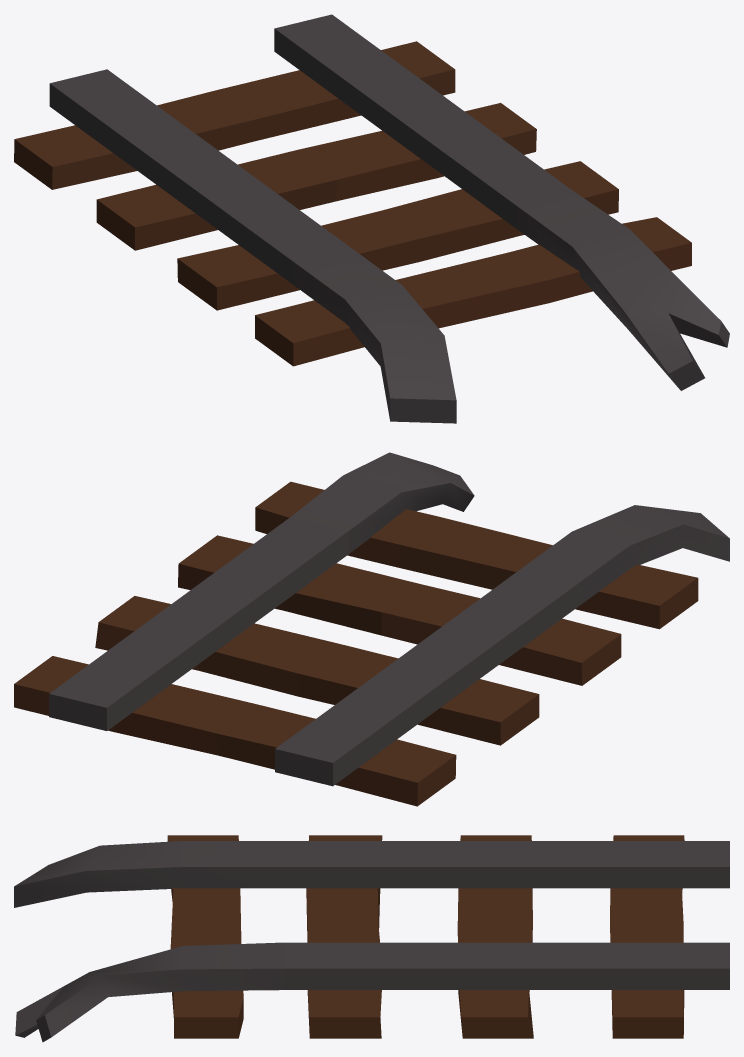
The model's file is track_broken_1.fbx.
3 views of the same model, one above another, from view 1: azimuth 30°, elevation 25°; view 2: azimuth 150°, elevation 25°; view 3: azimuth 270°, elevation 25° (orthographic). The views are drawn at different scales.
Visible parts, largest first — view 1: track_straight.001; view 2: track_straight.001; view 3: track_straight.001.
Part boxes in pixels (<box>): track_straight.001: <box>14,14,729,423</box>; track_straight.001: <box>14,452,729,806</box>; track_straight.001: <box>14,835,729,1042</box>.
Bounding box in the file's own units: 240 × 51.81 × 400.
